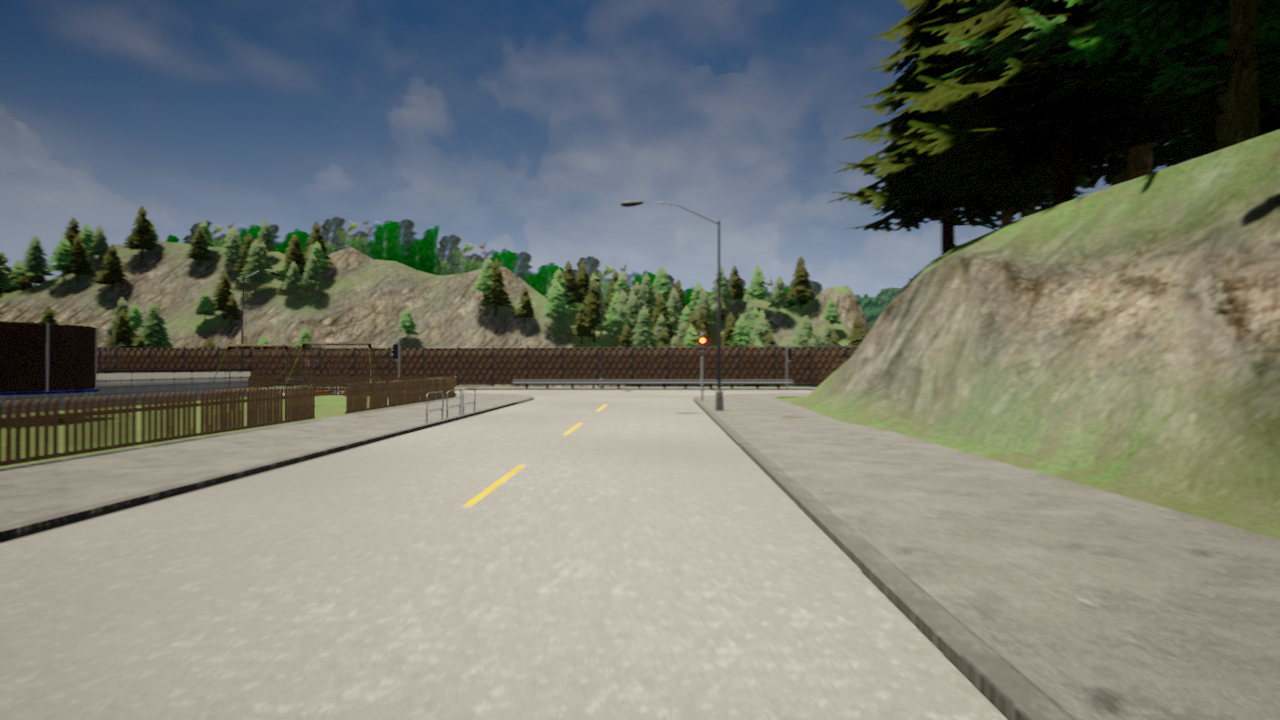red: (697, 334, 707, 357)
